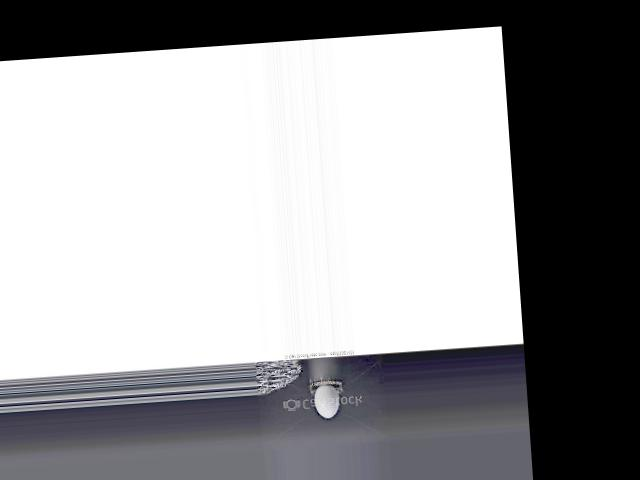egg: (313, 383, 340, 418)
